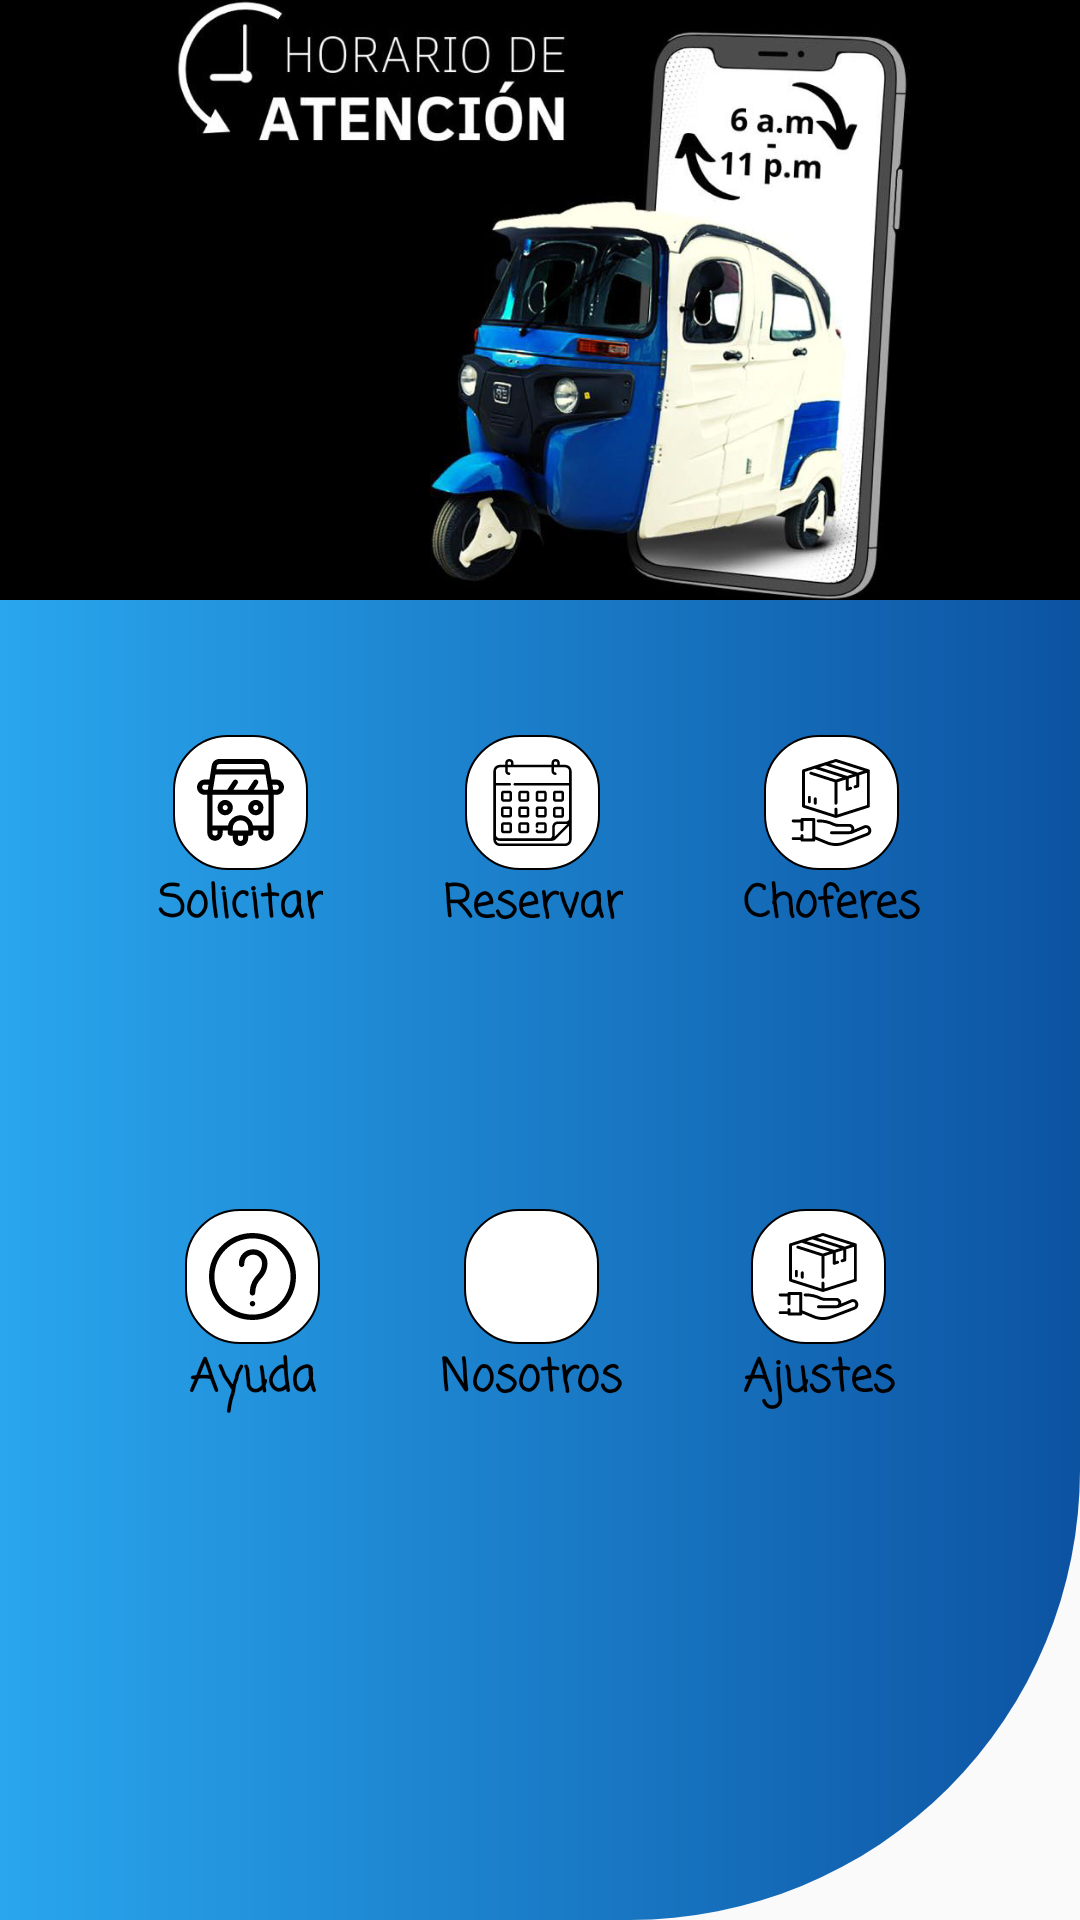

Where to tap for icons on this 1080 x 1920 app screen, as point (x, y):
calendar: point (532, 802)
envio: point (831, 802), point (818, 1276)
rmoto: point (240, 802)
